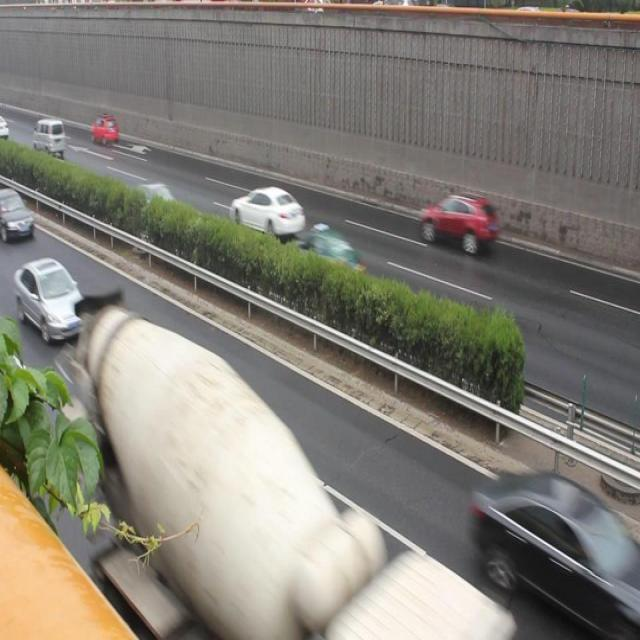bus: (82, 328, 497, 640)
car: (465, 460, 630, 626), (16, 256, 85, 338), (419, 186, 497, 256), (229, 184, 304, 245), (298, 223, 368, 288), (132, 178, 183, 224), (1, 189, 38, 244), (92, 112, 120, 146)
truck: (34, 118, 66, 156)
